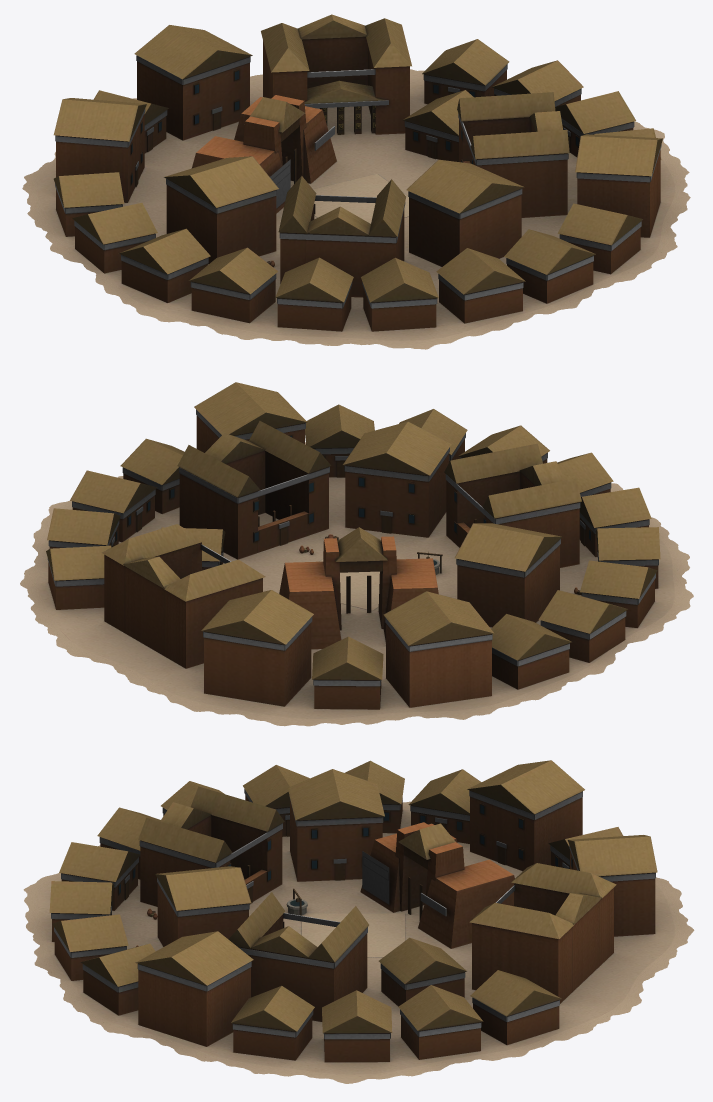
File: classical-town-big-b-westafrica-77b9be76.glb
3 views of the same model, one above another, from view 1: azimuth 30°, elevation 25°; view 2: azimuth 150°, elevation 25°; view 3: azimuth 270°, elevation 25° (orthographic).
Visible parts, largest first — view 1: LOD0; view 2: LOD0; view 3: LOD0.
Boxes of the visible parts, x1=… form: LOD0: x1=22, y1=14, x2=690, y2=349; LOD0: x1=20, y1=382, x2=693, y2=726; LOD0: x1=23, y1=760, x2=694, y2=1083.
Size of what is drawn, in the model's own units: 7.98 by 1.15 by 7.98.
Materials: 3 (3 with a texture image).
